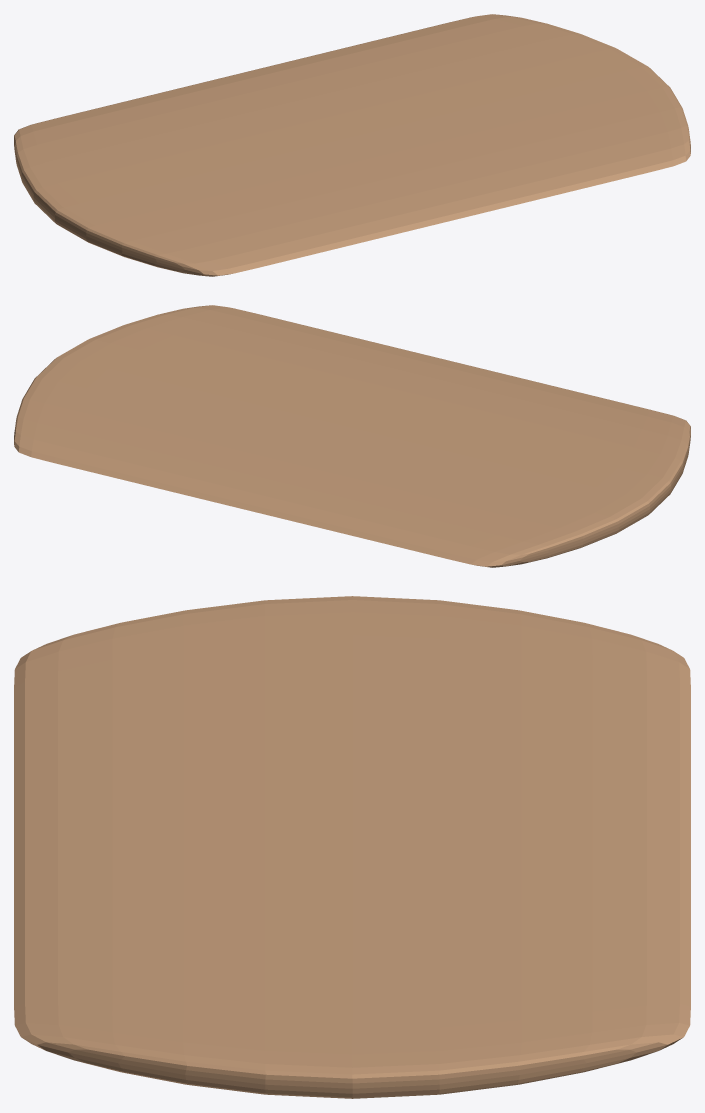
File: Dessert_plate.fbx
The picture shows the model from 3 angles, top to bottom: view 1: azimuth 30°, elevation 25°; view 2: azimuth 150°, elevation 25°; view 3: azimuth 270°, elevation 25°; orthographic projection. The views are drawn at different scales.
Parts seen in each view (by area): view 1: Dessert_plate; view 2: Dessert_plate; view 3: Dessert_plate.
Part boxes in pixels (x1=…): Dessert_plate: x1=14, y1=14, x2=690, y2=276; Dessert_plate: x1=14, y1=305, x2=690, y2=567; Dessert_plate: x1=14, y1=596, x2=690, y2=1098.
Bounding box in the file's own units: 21.28 × 0.5819 × 12.62.
